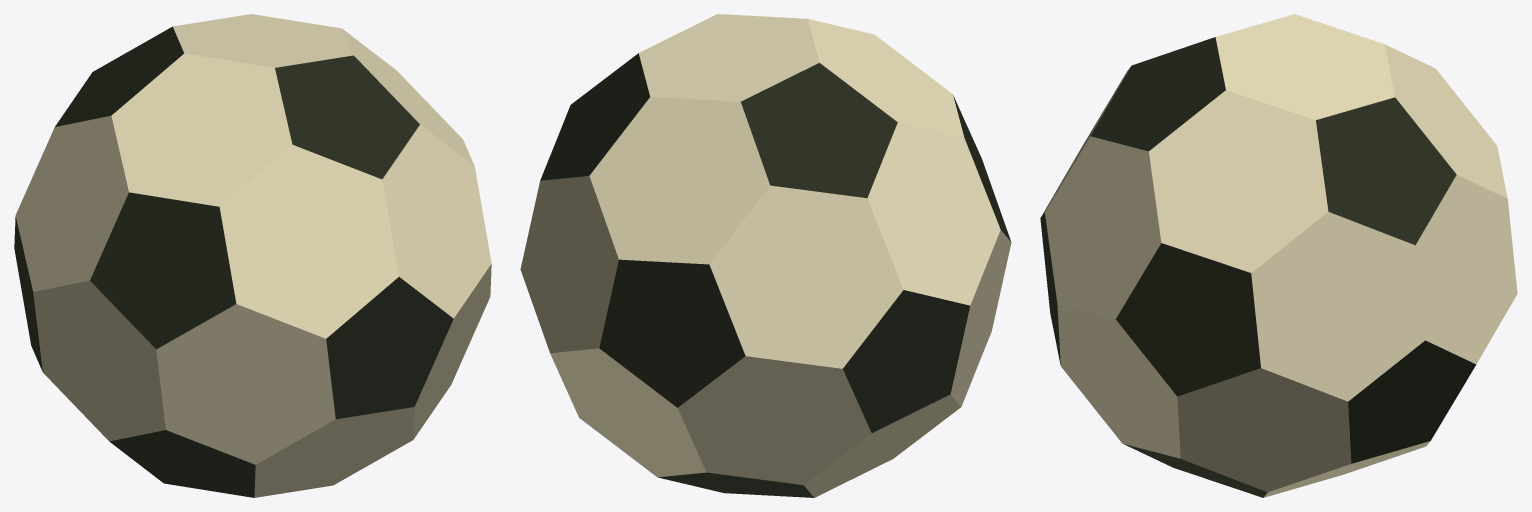
Rendered from football.glb.
3 views of the same model, side by side, from view 1: azimuth 30°, elevation 25°; view 2: azimuth 150°, elevation 25°; view 3: azimuth 270°, elevation 25° (orthographic).
Parts seen in each view (by area): view 1: football; view 2: football; view 3: football.
Boxes of the visible parts, x1,y1,x2,y2 form: football: [14, 14, 491, 497]; football: [520, 14, 1011, 497]; football: [1040, 14, 1517, 497].
Size of the model in its own units: 0.2192 by 0.2156 by 0.2142.
